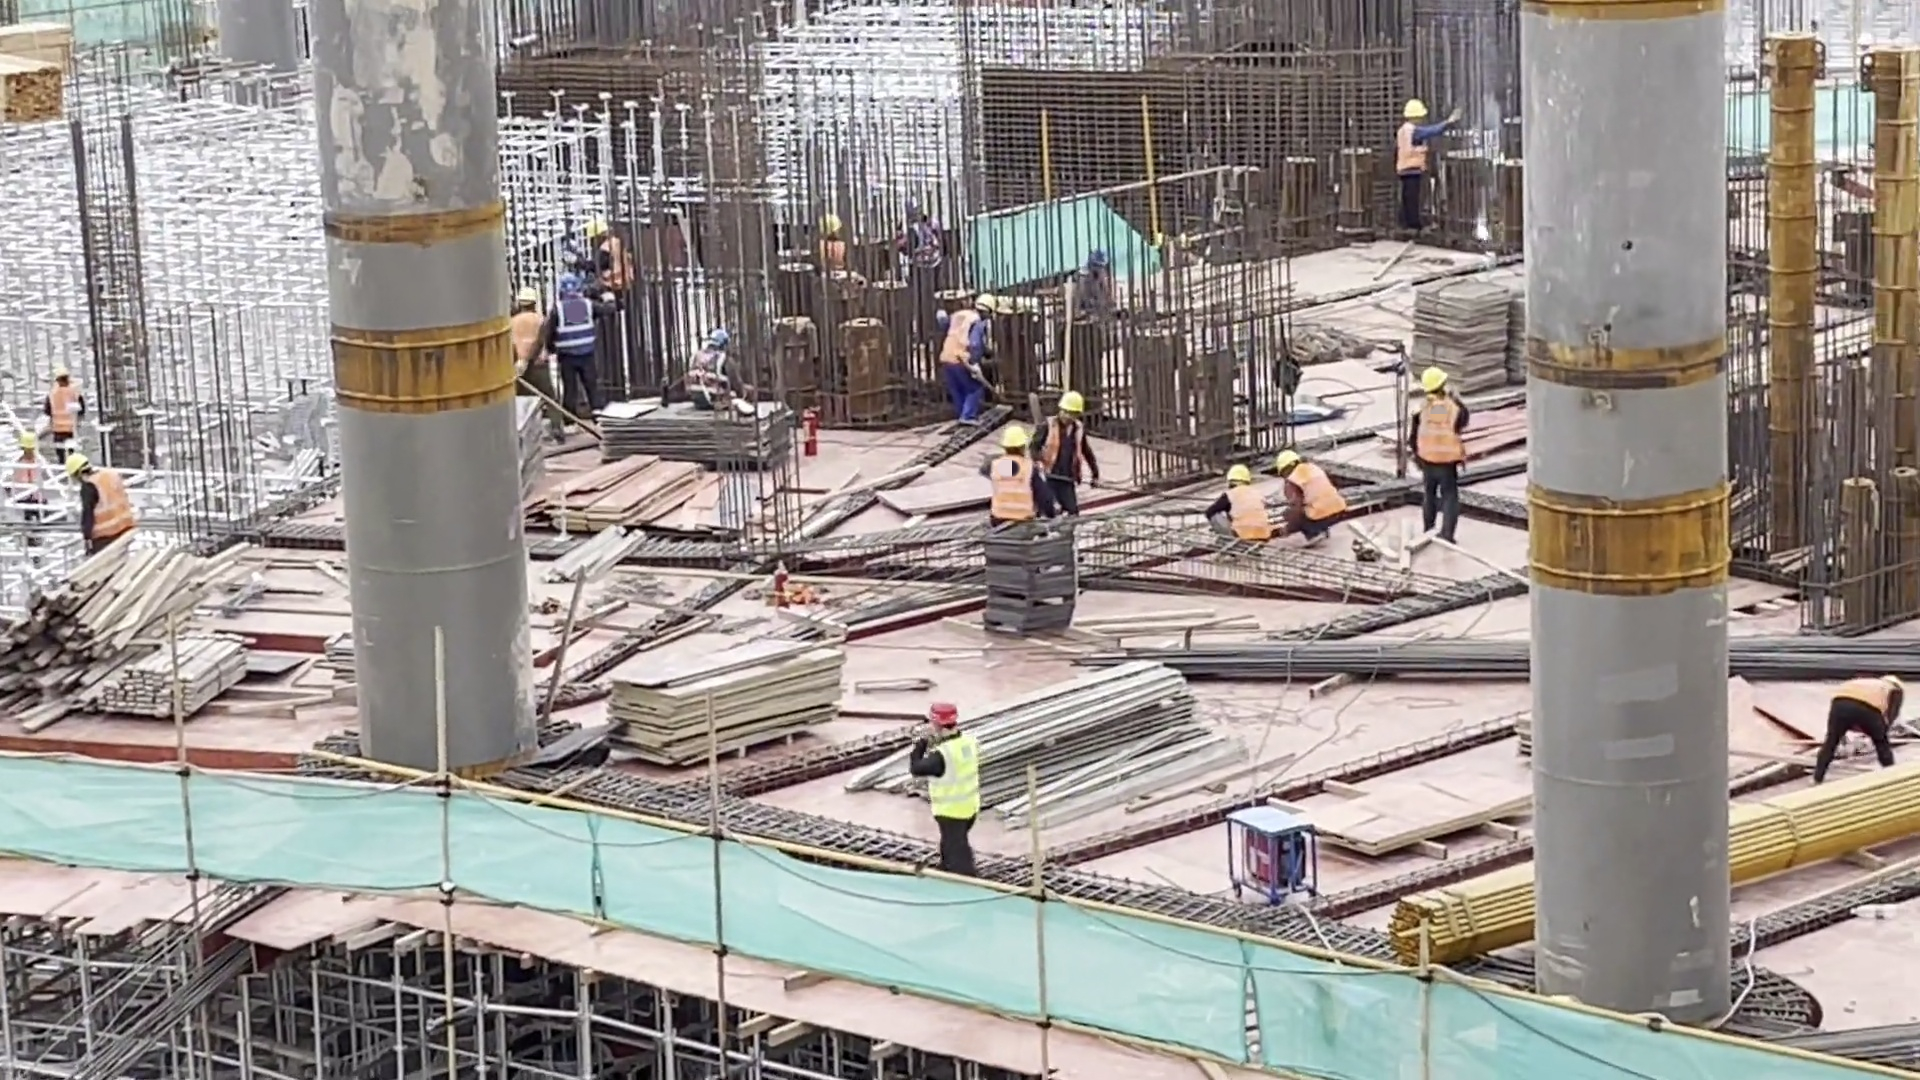helmet: (1421, 364, 1448, 393), (999, 425, 1027, 451), (928, 702, 958, 727), (1058, 390, 1083, 419), (1226, 461, 1251, 486), (62, 452, 87, 478), (974, 290, 998, 315), (1275, 449, 1298, 475), (516, 287, 539, 303)
person: (906, 699, 984, 874), (1028, 388, 1102, 523), (1408, 365, 1464, 546), (1802, 676, 1904, 774), (1398, 101, 1469, 234), (938, 288, 998, 419), (542, 276, 598, 412), (58, 452, 138, 545), (1275, 443, 1348, 543), (984, 423, 1040, 530), (515, 288, 548, 443), (1213, 463, 1273, 548), (684, 323, 728, 410), (37, 370, 82, 443), (11, 437, 37, 528)
vest: (923, 734, 983, 820), (1414, 393, 1467, 463), (83, 470, 134, 539), (1289, 464, 1347, 518), (990, 457, 1034, 522), (1046, 421, 1086, 481), (1227, 489, 1271, 540), (943, 310, 981, 366)
